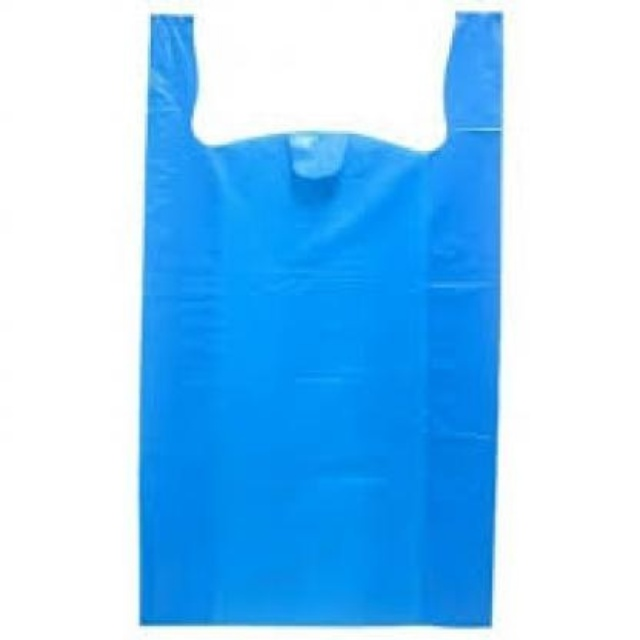trash: (142, 12, 500, 625)
